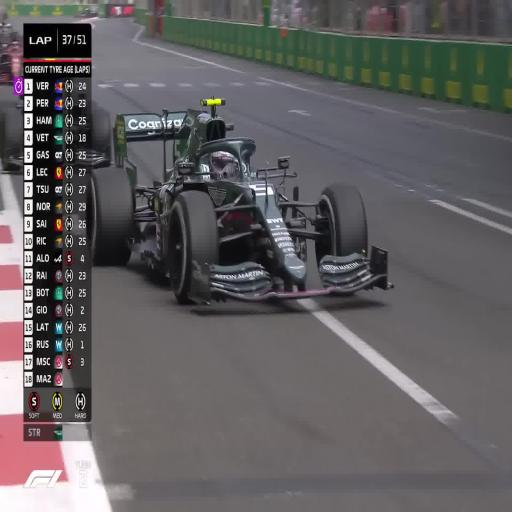f1_car: (87, 98, 392, 303)
